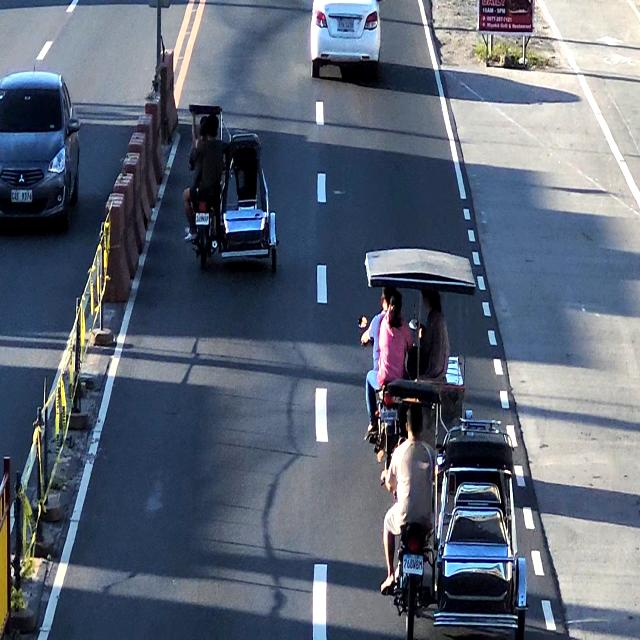Car: (312, 0, 384, 83)
License-Plate: (402, 549, 425, 574), (11, 190, 35, 202), (193, 212, 210, 227)
Tricycle: (378, 380, 526, 638), (355, 242, 473, 384), (186, 102, 280, 277)
